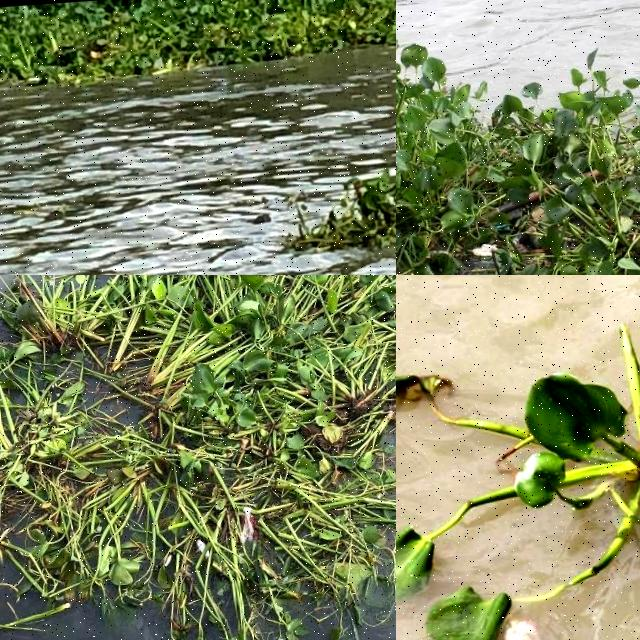water-hyacinth: (1, 276, 397, 640), (397, 276, 640, 640), (397, 2, 640, 276), (1, 1, 397, 83), (307, 141, 397, 264)
